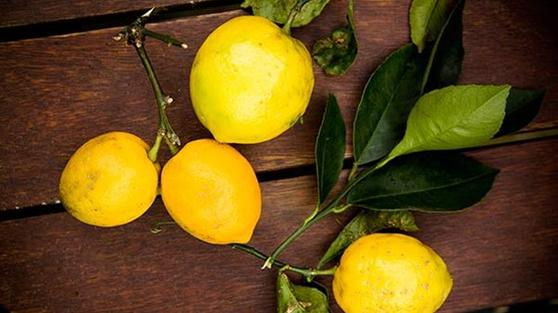lemon: (187, 13, 317, 147), (162, 140, 263, 252)
